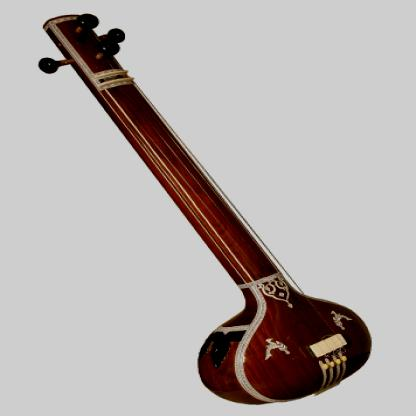Veena: (182, 164, 374, 410)
